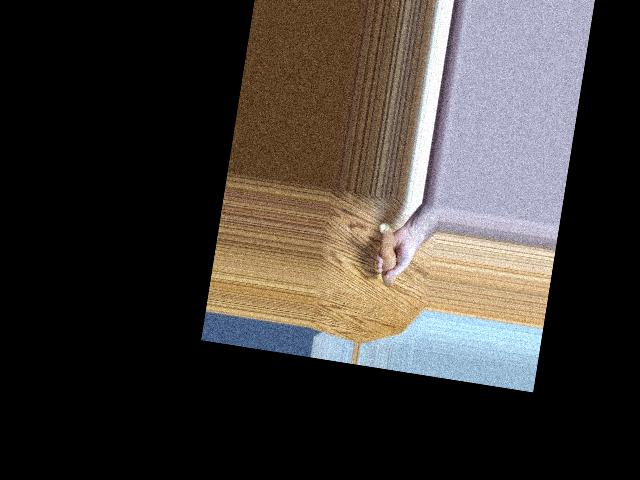sweet_potato: (374, 217, 408, 281)
